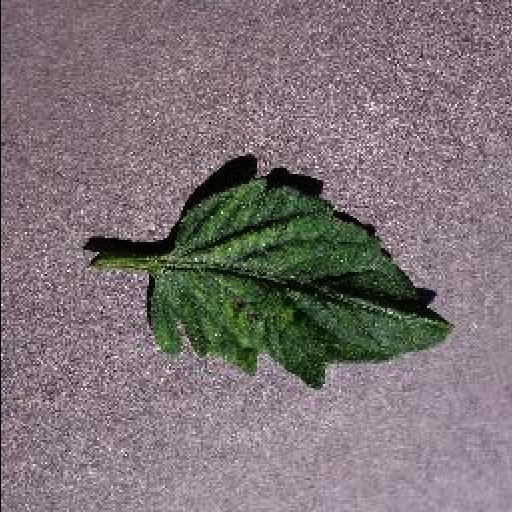disease_tomato: (144, 178, 452, 390)
